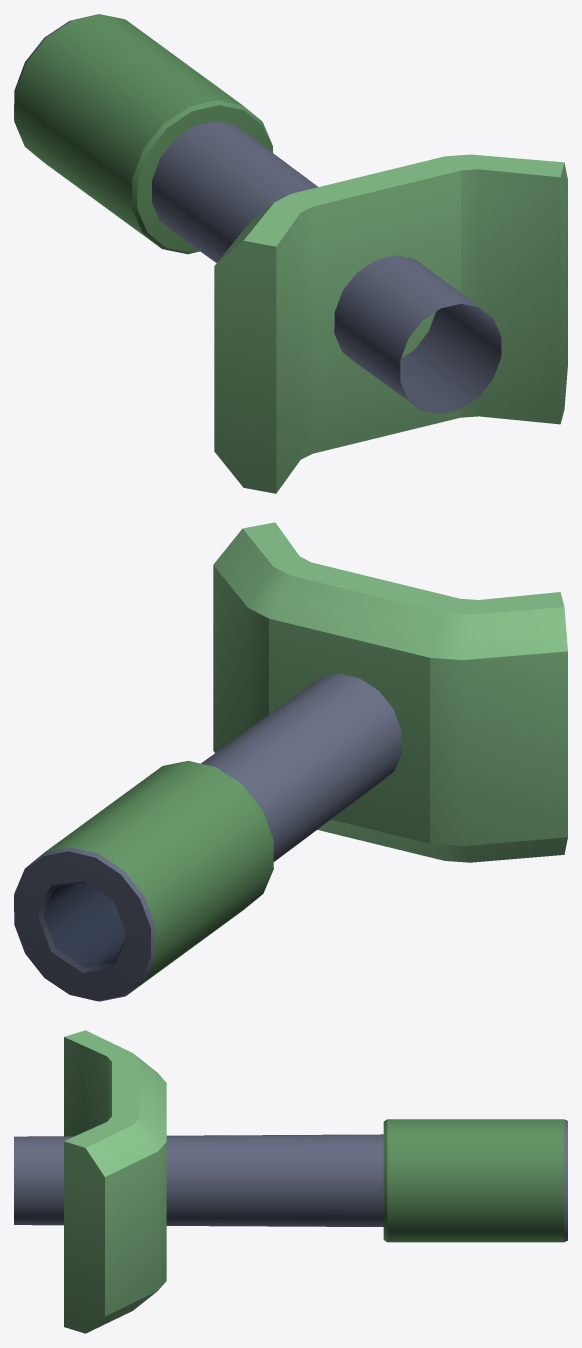
Rendered from toon_tank_barrel.obj.
3 renders of one model, top to bottom at view 1: azimuth 30°, elevation 25°; view 2: azimuth 150°, elevation 25°; view 3: azimuth 270°, elevation 25°, orthographic. The views are drawn at different scales.
Parts seen in each view (by area): view 1: Tank_Barrel_Cube.002; view 2: Tank_Barrel_Cube.002; view 3: Tank_Barrel_Cube.002.
Boxes of the visible parts, left/top/right/bottom form: Tank_Barrel_Cube.002: left=14, top=14, right=567, bottom=493; Tank_Barrel_Cube.002: left=14, top=522, right=567, bottom=1001; Tank_Barrel_Cube.002: left=14, top=1030, right=567, bottom=1333.
Size of the model in its own units: 1.02 by 0.6786 by 1.83.
1 material, 1 textured.
